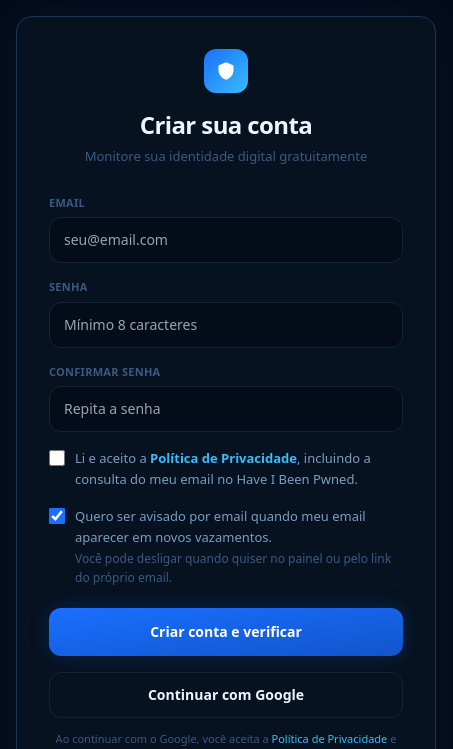
Test: Auth (cadastro) › signs up with the alerts on and asks to confirm the e-mail
Type "Jane@Example.com" into the field labelled "EMAIL" at (226, 240), box x1=49 y1=217 x2=403 y2=263
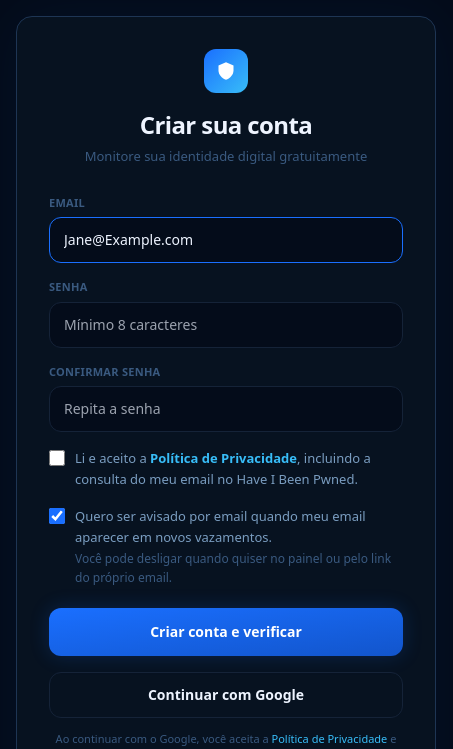
Type "StrongPass123" into the password field labelled "SENHA" at (226, 324), box x1=49 y1=302 x2=403 y2=348
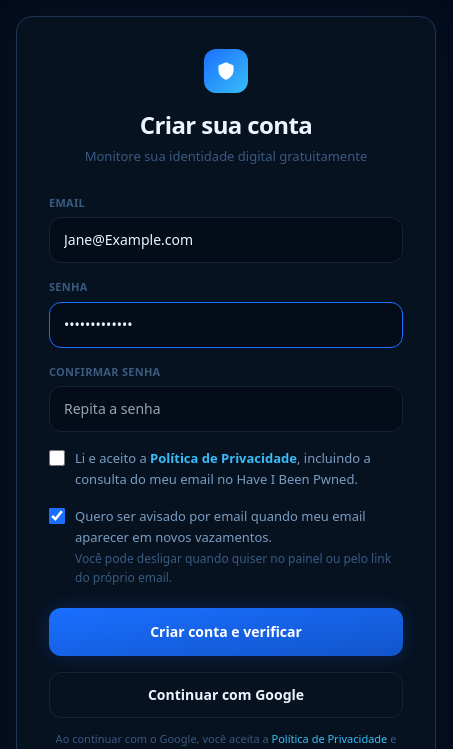
Type "StrongPass123" into the password field labelled "CONFIRMAR SENHA" at (226, 409), box x1=49 y1=386 x2=403 y2=432
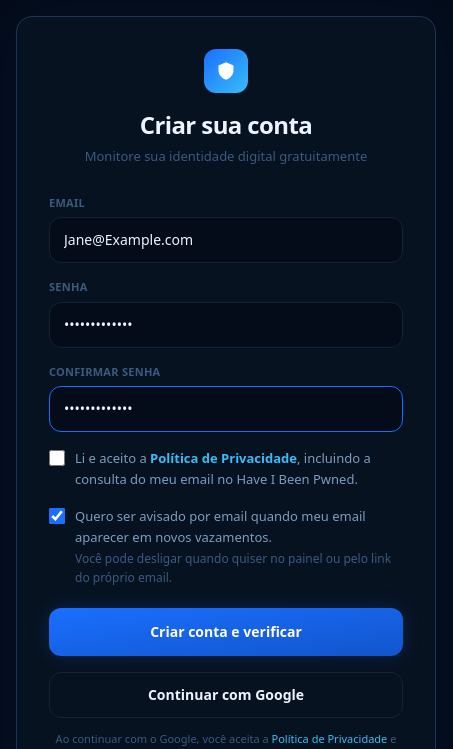
Click the checkbox labelled "Li e aceito" at (57, 458), box x1=49 y1=450 x2=65 y2=466
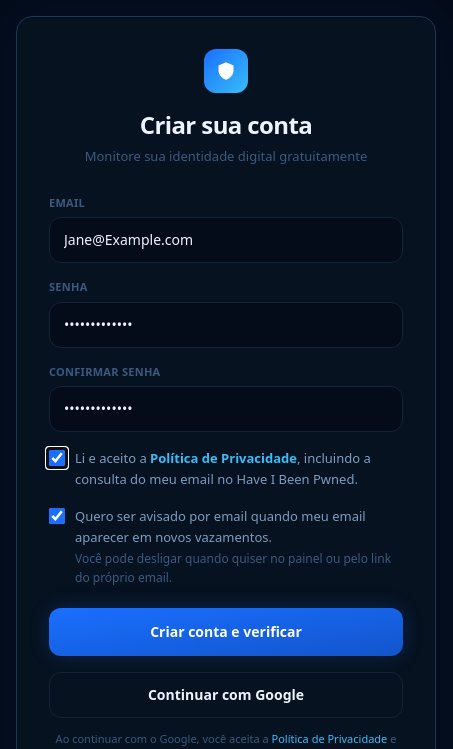
Click the button "Criar conta e verificar" at (226, 632), box x1=49 y1=608 x2=403 y2=656
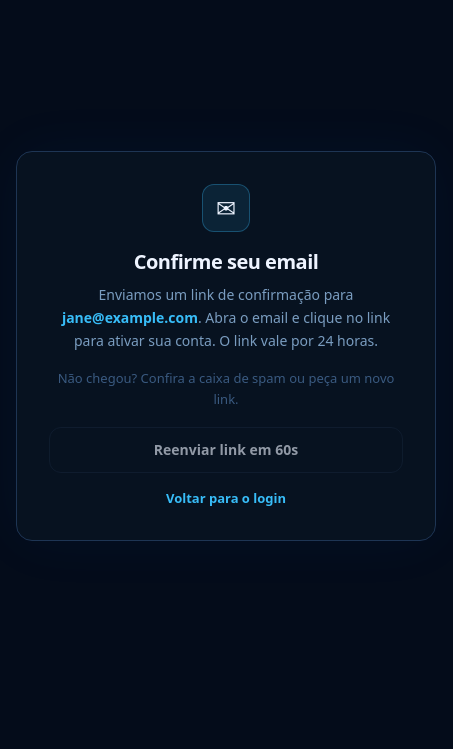
Now the heading "Confirme seu email" is shown, box x1=134 y1=248 x2=318 y2=275
Now the text "jane@example.com" is shown, box x1=62 y1=308 x2=198 y2=327
Now the button "Reenviar link em 60s" is disabled, box x1=49 y1=426 x2=403 y2=472
